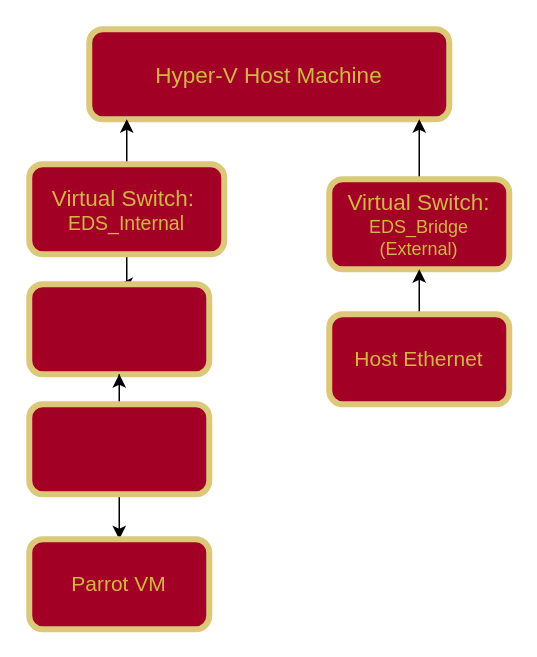
The diagram is 537 pixels wide and 657 high, and some of its shapes have lost their labels. Here are the shapes that lost their labels. From the top down, the box of each, then its label:
(26, 280, 212, 376): Ubuntu VM
(26, 400, 212, 496): Kali VM
